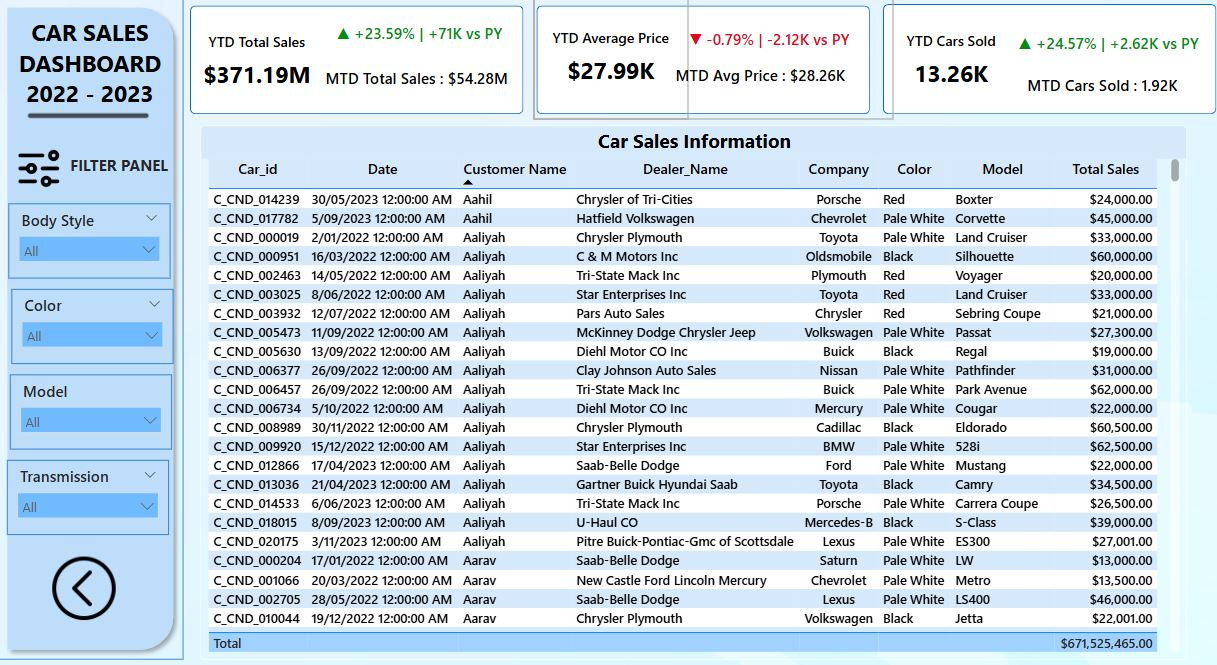

What the dashboard file says about the page in this screenshot:
{"tool":"powerbi","page":{"name":"Details","canvas":[1280,720],"ordinal":1},"visuals":[{"type":"shape","box":[0,12.2,194.4,694.7],"z":0},{"type":"shape","box":[929.9,19.5,350.1,115.7],"z":1000},{"type":"shape","box":[565.8,20.3,350.1,114.1],"z":2000},{"type":"shape","box":[201.6,20.3,350.1,114.1],"z":3000},{"type":"cardVisual","fields":{"Data":["Key Measures.YTD Total Sales"]},"box":[193.8,12.4,156.3,134.4],"z":5000,"group":"g1"},{"type":"cardVisual","fields":{"Data":["Key Measures.YOY Growth & Sales Diff"]},"box":[327.5,8.6,230.9,74.9],"z":7000,"group":"g1"},{"type":"cardVisual","fields":{"Data":["Key Measures.YTD Average Price"]},"box":[562.7,7.8,162.6,132.9],"z":8000,"group":"g2"},{"type":"group","id":"g1","title":"Group 1","box":[193.8,8.6,364.2,137.5],"z":9000},{"type":"cardVisual","fields":{"Data":["Key Measures.Card_2"]},"box":[683,67.7,237.6,53.1],"z":9000,"group":"g2"},{"type":"cardVisual","fields":{"Data":["Key Measures.Card_1"]},"box":[330.6,69.2,218.7,58.7],"z":9000,"group":"g1"},{"type":"group","id":"g2","title":"Group 2","box":[562.7,7.8,378.2,132.9],"z":10000},{"type":"cardVisual","fields":{"Data":["Key Measures.YOY Growth & Price Diff"]},"box":[681.1,15.9,259.2,70.9],"z":10000,"group":"g2"},{"type":"group","id":"g3","title":"Group 3","box":[930,23.4,350.1,107.8],"z":11000},{"type":"cardVisual","fields":{"Data":["Key Measures.YTD Cars Sold"]},"box":[930,23.4,143.8,107.8],"z":11000,"group":"g3"},{"type":"textbox","box":[10.1,26.3,174.2,115.4],"z":12000},{"type":"cardVisual","fields":{"Data":["Key Measures.Card_3"]},"box":[1055,76.5,212.6,54.7],"z":12000,"group":"g3"},{"type":"cardVisual","fields":{"Data":["Key Measures.YOY Growth & Car Sold Diff"]},"box":[1055,23.4,225.1,51.6],"z":13000,"group":"g3"},{"type":"slicer","fields":{"Values":["Dim_Car.Body Style"]},"box":[11.5,228.9,170.1,79],"z":13000},{"type":"slicer","fields":{"Values":["Dim_Car.Transmission"]},"box":[10.1,498.2,170.1,79],"z":14000},{"type":"slicer","fields":{"Values":["Dim_Car.Model"]},"box":[12.8,408.4,170.1,79],"z":15000},{"type":"slicer","fields":{"Values":["Dim_Car.Color"]},"box":[14.2,318.6,170.1,79],"z":16000},{"type":"textbox","box":[70.9,172.2,123.5,44.6],"z":17000},{"type":"image","box":[14.2,162,56.7,58.7],"z":18000},{"type":"image","box":[4.1,66.8,180.3,139.7],"z":20000},{"type":"tableEx","title":"Car Sales Information","fields":{"Values":["Dim_Car.Car_id","Dim_Date.Date","Dim_Customers.Customer Name","Dim_Dealers.Dealer_Name","Dim_Car.Company","Dim_Car.Color","Dim_Car.Model","Key Measures.Total Sales"]},"box":[212.6,146.9,1036.3,561.1],"z":20001},{"type":"image","box":[24.3,593.4,133.7,77],"z":20002}]}

Visuals, with their boxes in screenshot pixels (x1, y1, x2, y2), scaled from the page's 1280x720 canvas onto the 1217x665 screenshot:
shape: <box>0,11,185,653</box>
shape: <box>884,18,1216,125</box>
shape: <box>538,19,871,124</box>
shape: <box>192,19,525,124</box>
cardVisual - Key Measures.YTD Total Sales: <box>184,11,333,136</box>
cardVisual - Key Measures.YOY Growth & Sales Diff: <box>311,8,531,77</box>
cardVisual - Key Measures.YTD Average Price: <box>535,7,690,130</box>
"Group 1" group: <box>184,8,531,135</box>
cardVisual - Key Measures.Card_2: <box>649,63,875,112</box>
cardVisual - Key Measures.Card_1: <box>314,64,522,118</box>
"Group 2" group: <box>535,7,895,130</box>
cardVisual - Key Measures.YOY Growth & Price Diff: <box>648,15,894,80</box>
"Group 3" group: <box>884,22,1216,121</box>
cardVisual - Key Measures.YTD Cars Sold: <box>884,22,1021,121</box>
textbox: <box>10,24,175,131</box>
cardVisual - Key Measures.Card_3: <box>1003,71,1205,121</box>
cardVisual - Key Measures.YOY Growth & Car Sold Diff: <box>1003,22,1216,69</box>
slicer - Dim_Car.Body Style: <box>11,211,173,284</box>
slicer - Dim_Car.Transmission: <box>10,460,171,533</box>
slicer - Dim_Car.Model: <box>12,377,174,450</box>
slicer - Dim_Car.Color: <box>14,294,175,367</box>
textbox: <box>67,159,185,200</box>
image: <box>14,150,67,204</box>
image: <box>4,62,175,191</box>
"Car Sales Information" tableEx: <box>202,136,1187,654</box>
image: <box>23,548,150,619</box>
